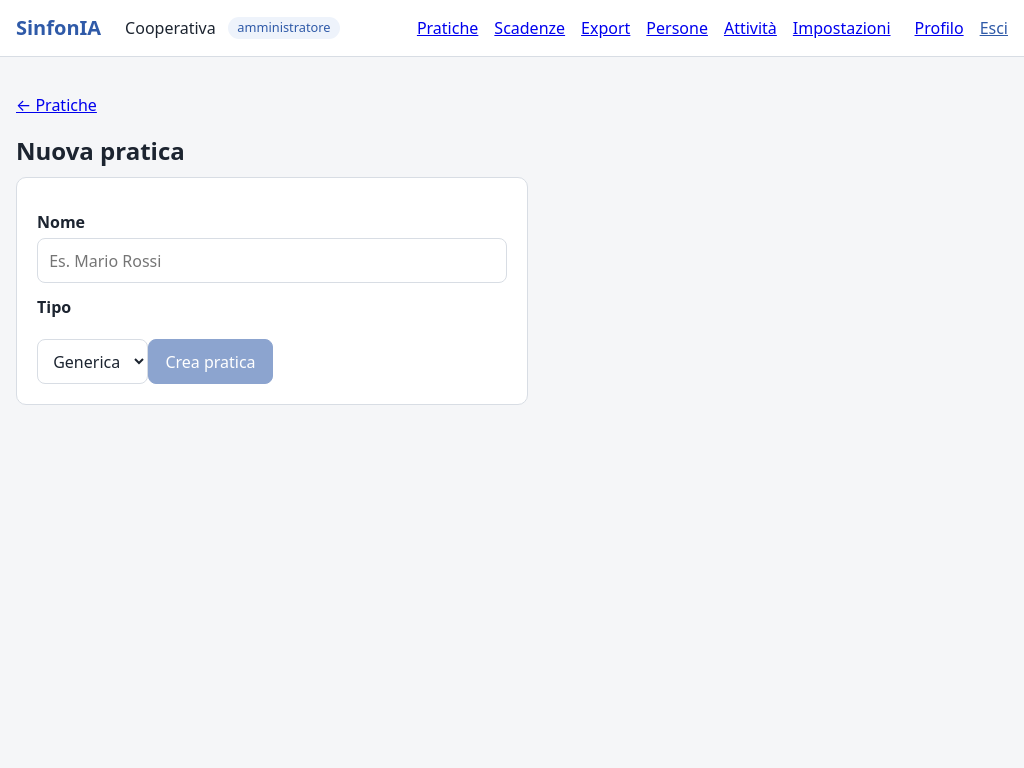
Test: practices (FE2) › creates a practice and opens it
Type "Mario Rossi" into the field labelled "Nome". click: coordinates (272, 261)
box: [37,238,507,283]
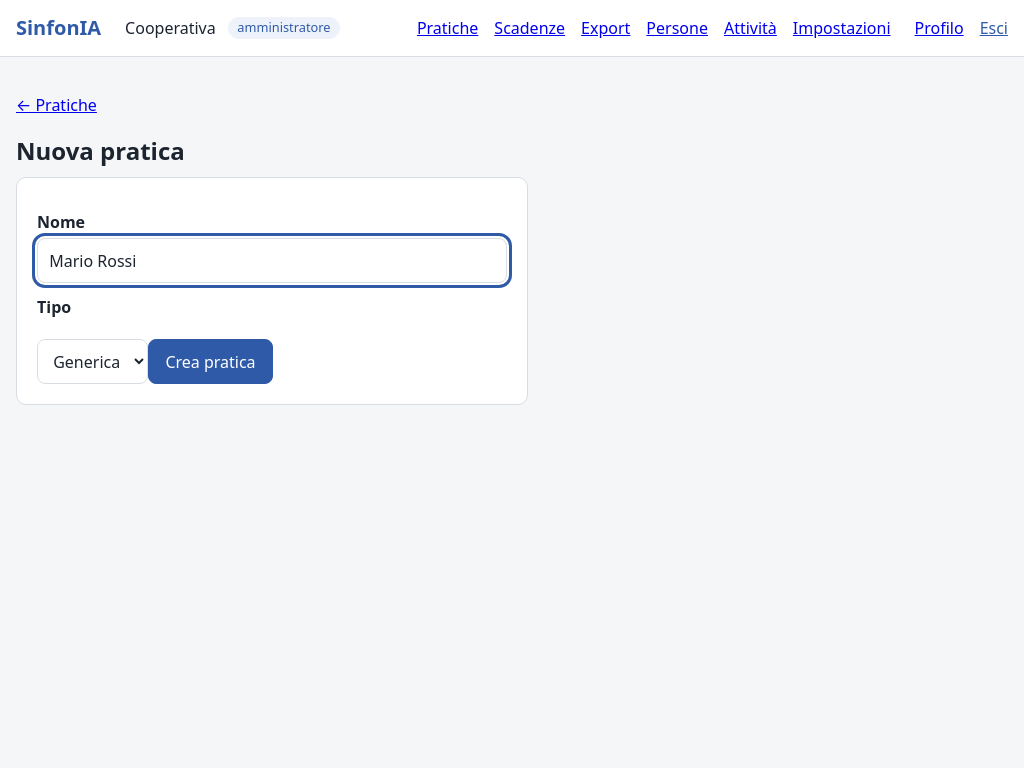
Click the button "Crea pratica". click: coordinates (210, 362)
box: [148,339,273,384]
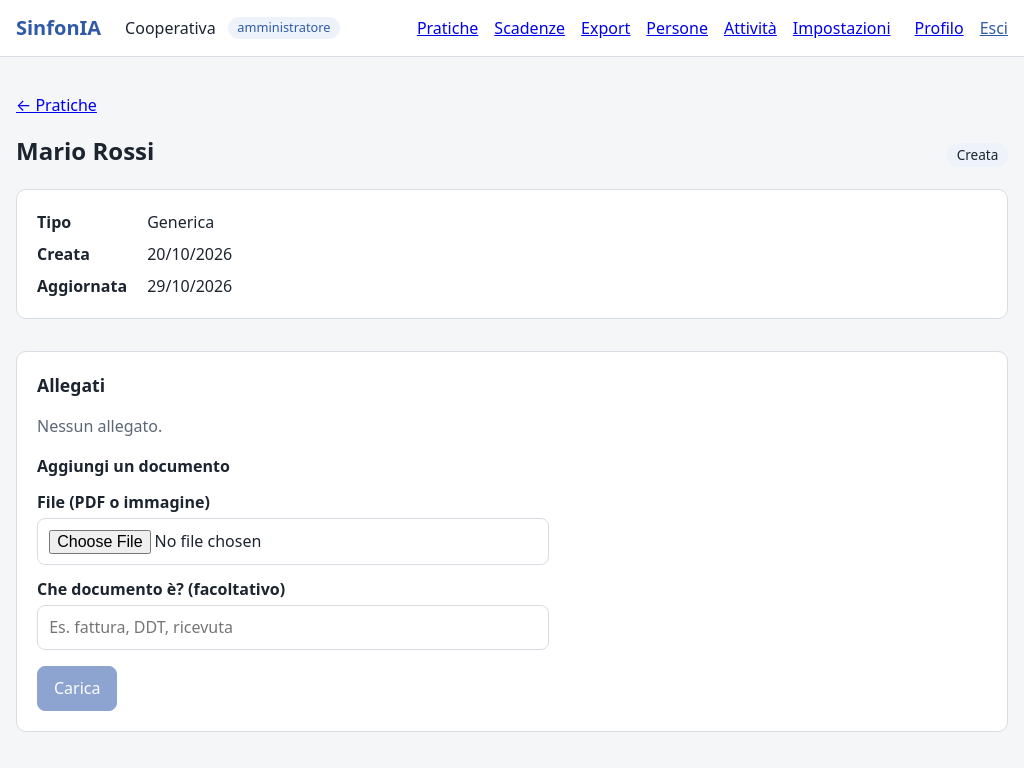
Now the heading "Mario Rossi" is shown, box [16,133,154,169]
